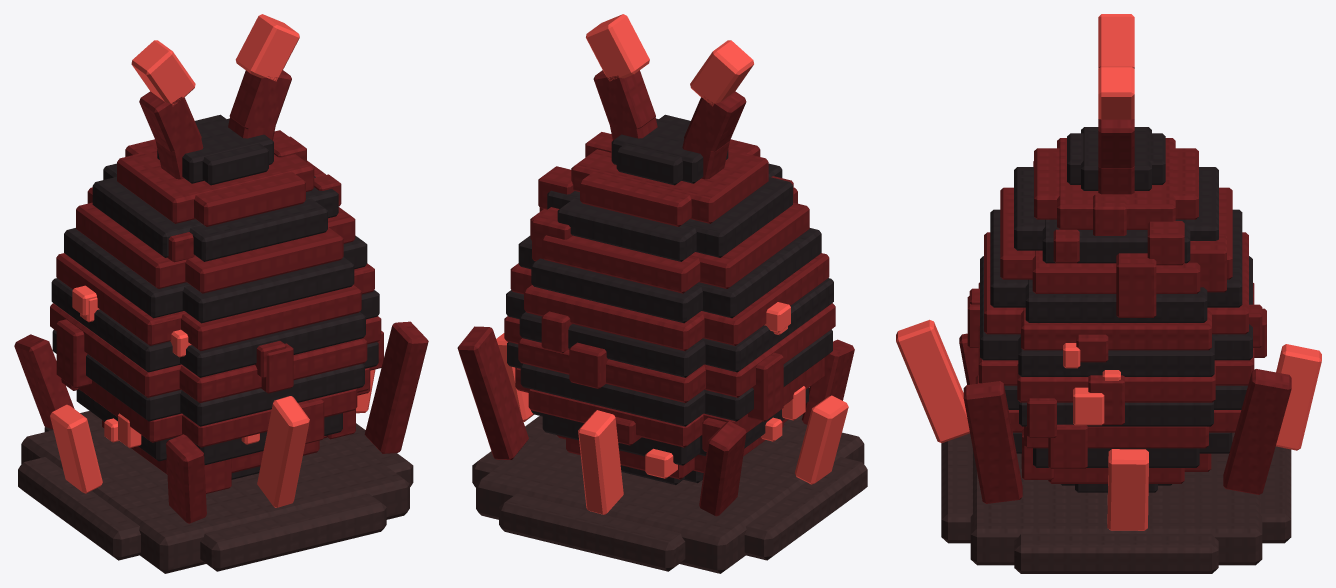
File: oeuf_8_volcan.glb
3 renders of one model, left to right at view 1: azimuth 30°, elevation 25°; view 2: azimuth 150°, elevation 25°; view 3: azimuth 270°, elevation 25°, orthographic.
Parts seen in each view (by area): view 1: oeuf_8_volcan; view 2: oeuf_8_volcan; view 3: oeuf_8_volcan.
Part boxes in pixels (x1,y1,x2,y2): oeuf_8_volcan: (14,14,428,573); oeuf_8_volcan: (457,14,867,573); oeuf_8_volcan: (896,14,1321,573).
Bounding box in the file's own units: 4.71 × 6.34 × 5.26.
1 material, 1 textured.
